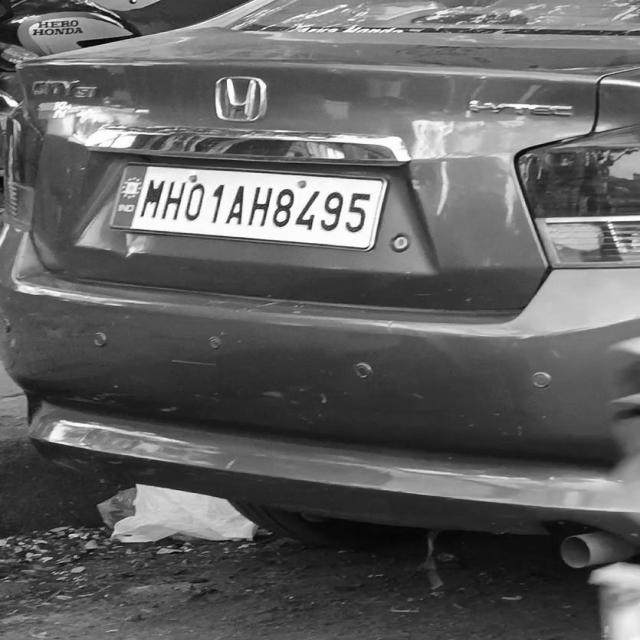license-plate: (100, 166, 391, 257)
